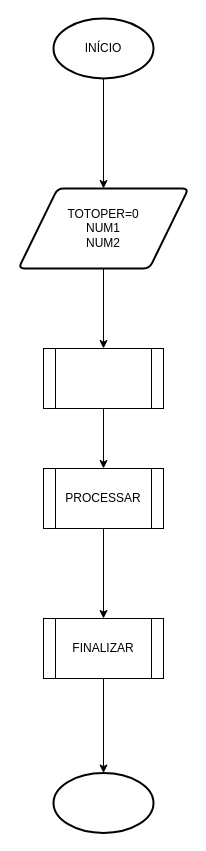
Image size: 206x851. Some labels were removed from this diagram. The shapes that lost their labels are listed below. From the top down, each one's centre as x and y in pixels, then its label:
At (103,378): "INICIALIZAR".
At (103,803): "FIM".
